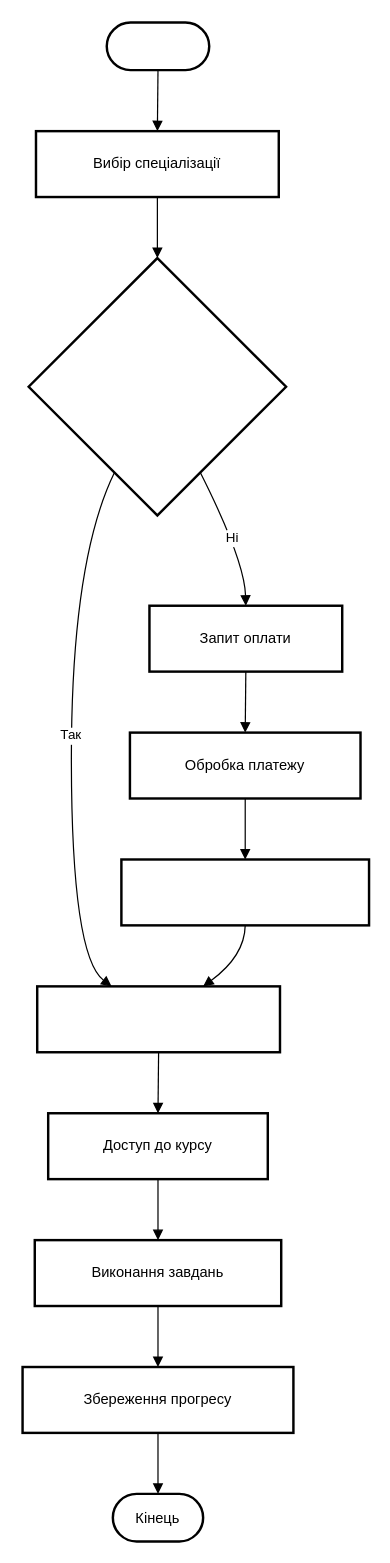
Some shapes in this 390 by 1563 pixel diagram are drawn without their labels. Here are the shapes that lost their labels. From the top down, the box of each, then its label:
(105, 21, 210, 71): Початок
(27, 256, 287, 516): Чи активна підписка?
(120, 858, 370, 926): Активація підписки
(35, 985, 281, 1053): Запис користувача
